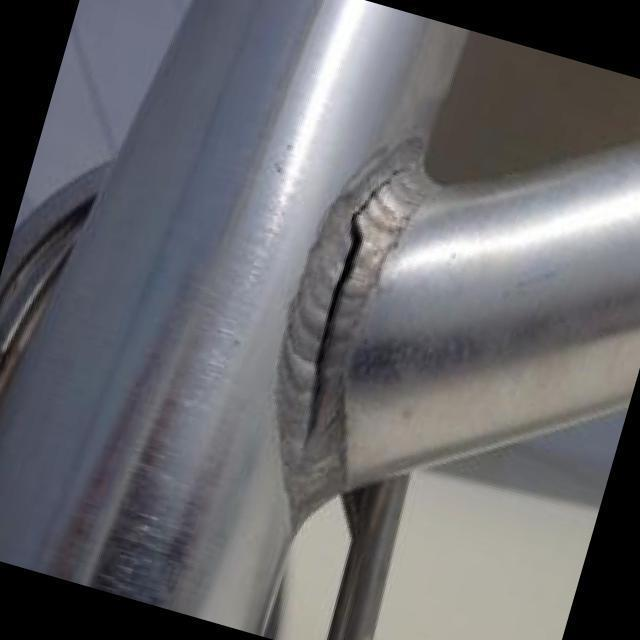defect: (302, 160, 407, 451)
